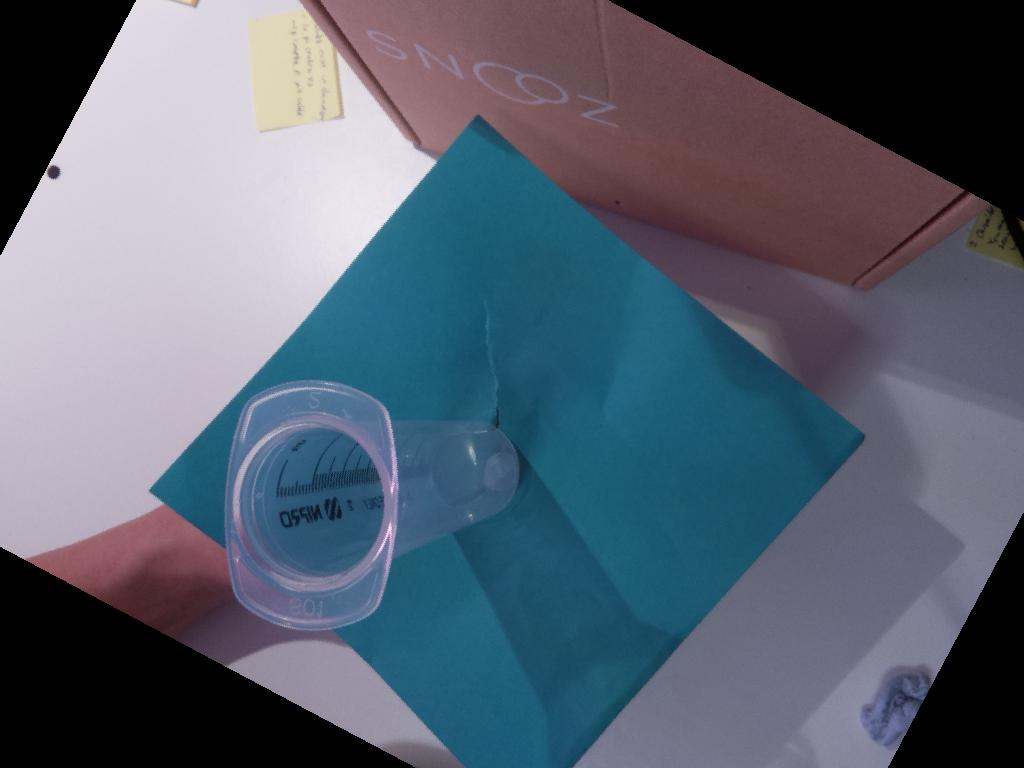clean: (225, 381, 402, 632)
